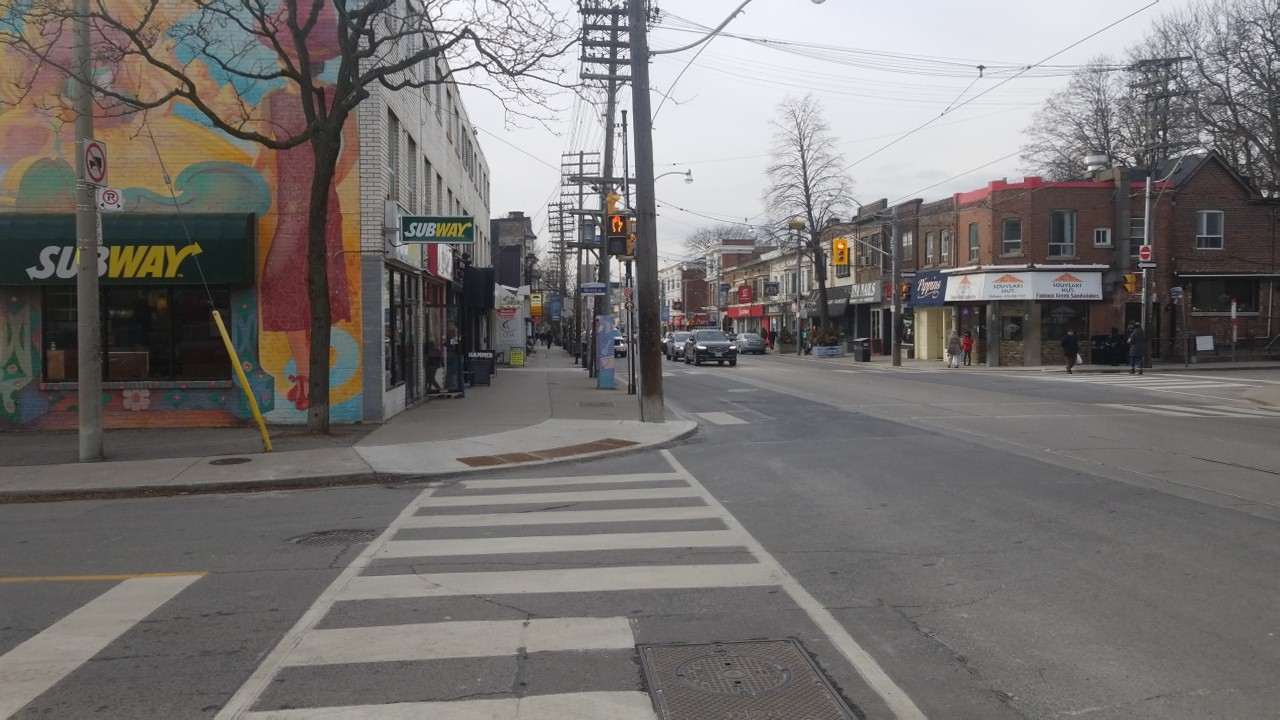light: (604, 211, 628, 256)
